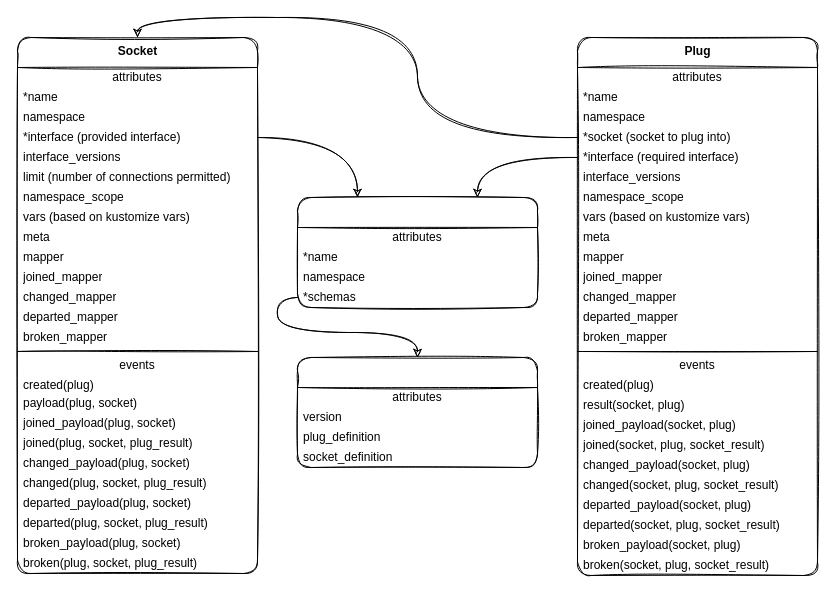
This 835x594 diagram has some shape labels left out. Here are the shapes that lost their labels. From the top down, the box of each, then its label:
(296, 196, 538, 308): Interface
(296, 356, 538, 468): Schema
